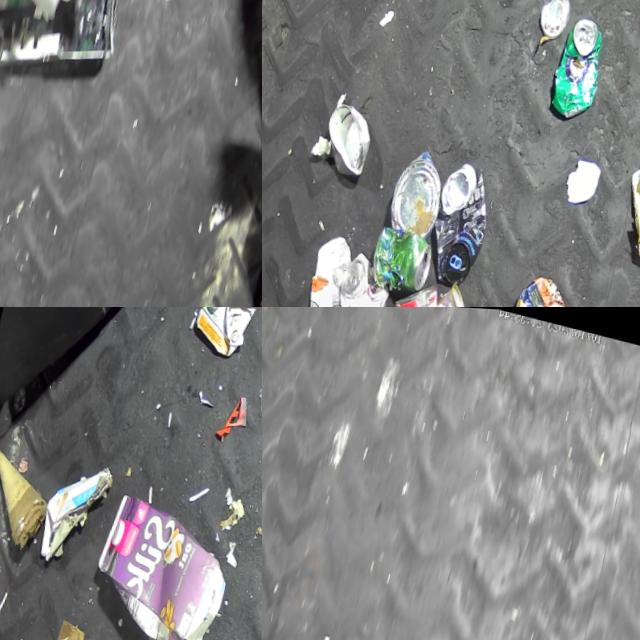can: (422, 152, 501, 285), (546, 6, 613, 119), (386, 140, 452, 235), (370, 219, 440, 295), (319, 92, 380, 174), (332, 244, 400, 307), (374, 272, 463, 307), (508, 265, 581, 307), (430, 275, 479, 307), (535, 0, 572, 35)
